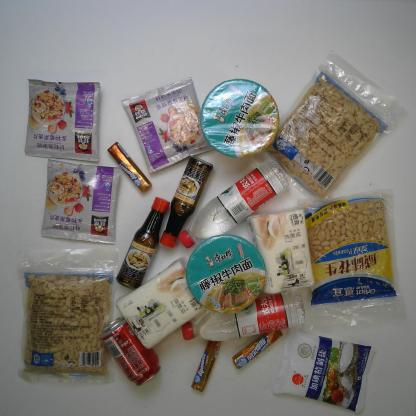Candy: (106, 141, 152, 193), (232, 329, 284, 370), (190, 340, 223, 392)
Dried Fruit: (253, 48, 411, 202), (295, 187, 407, 318), (15, 246, 116, 385)
Drink: (178, 158, 290, 250), (180, 289, 307, 342), (100, 315, 162, 387)
Instant Drink: (121, 76, 214, 174), (40, 158, 121, 245), (23, 78, 100, 163)
Instant Noodles: (185, 233, 268, 315), (200, 77, 279, 159)
Seasoner: (272, 327, 378, 414), (115, 195, 171, 290), (158, 154, 214, 249)
Tissue: (114, 256, 208, 350), (245, 204, 316, 296)
